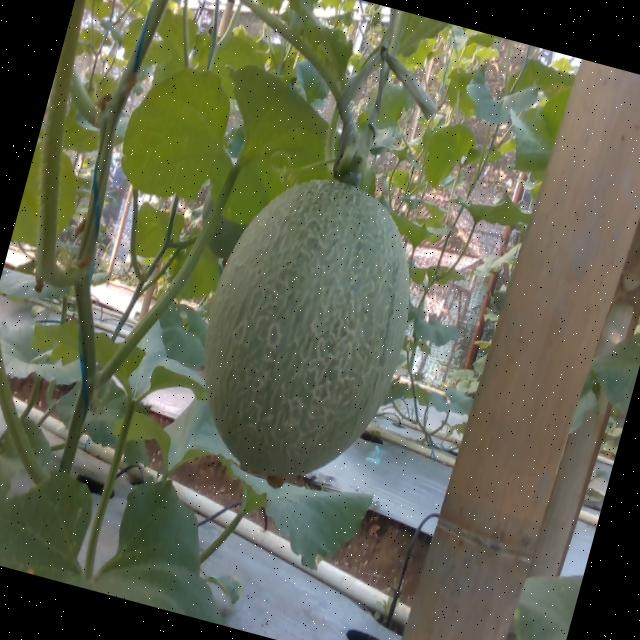melon: (206, 180, 408, 480)
